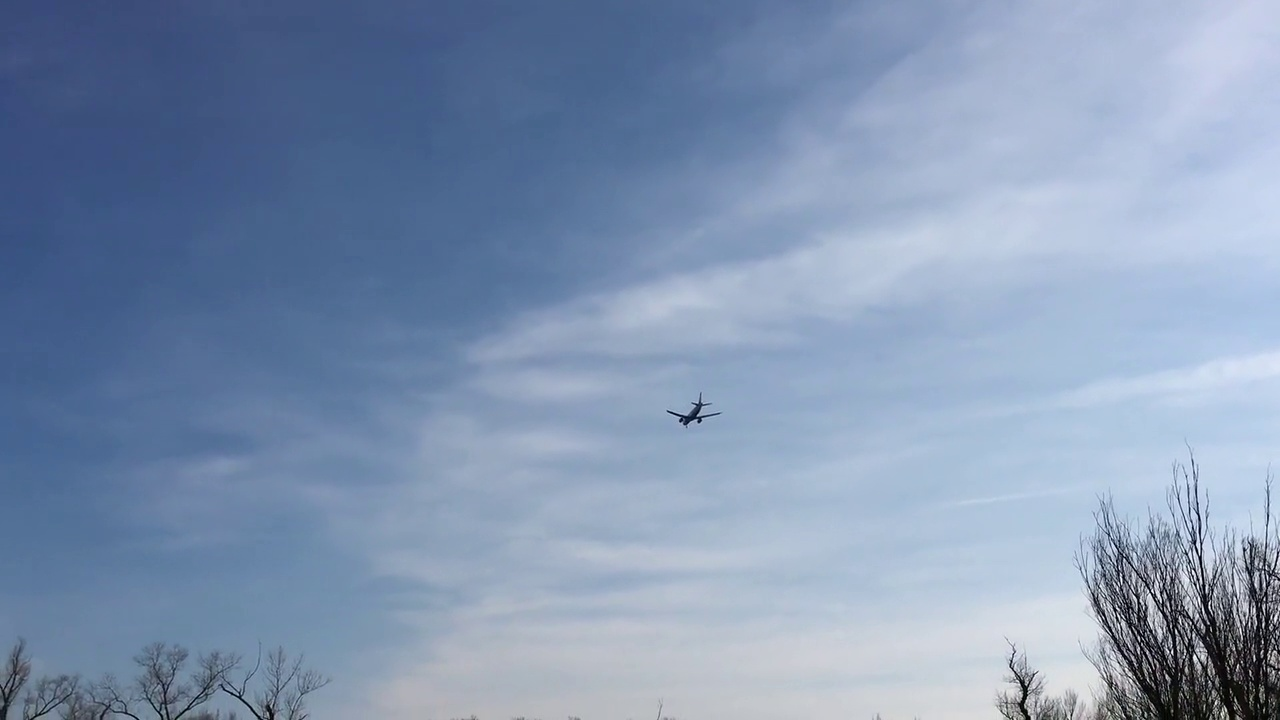plane: (665, 393, 721, 430)
